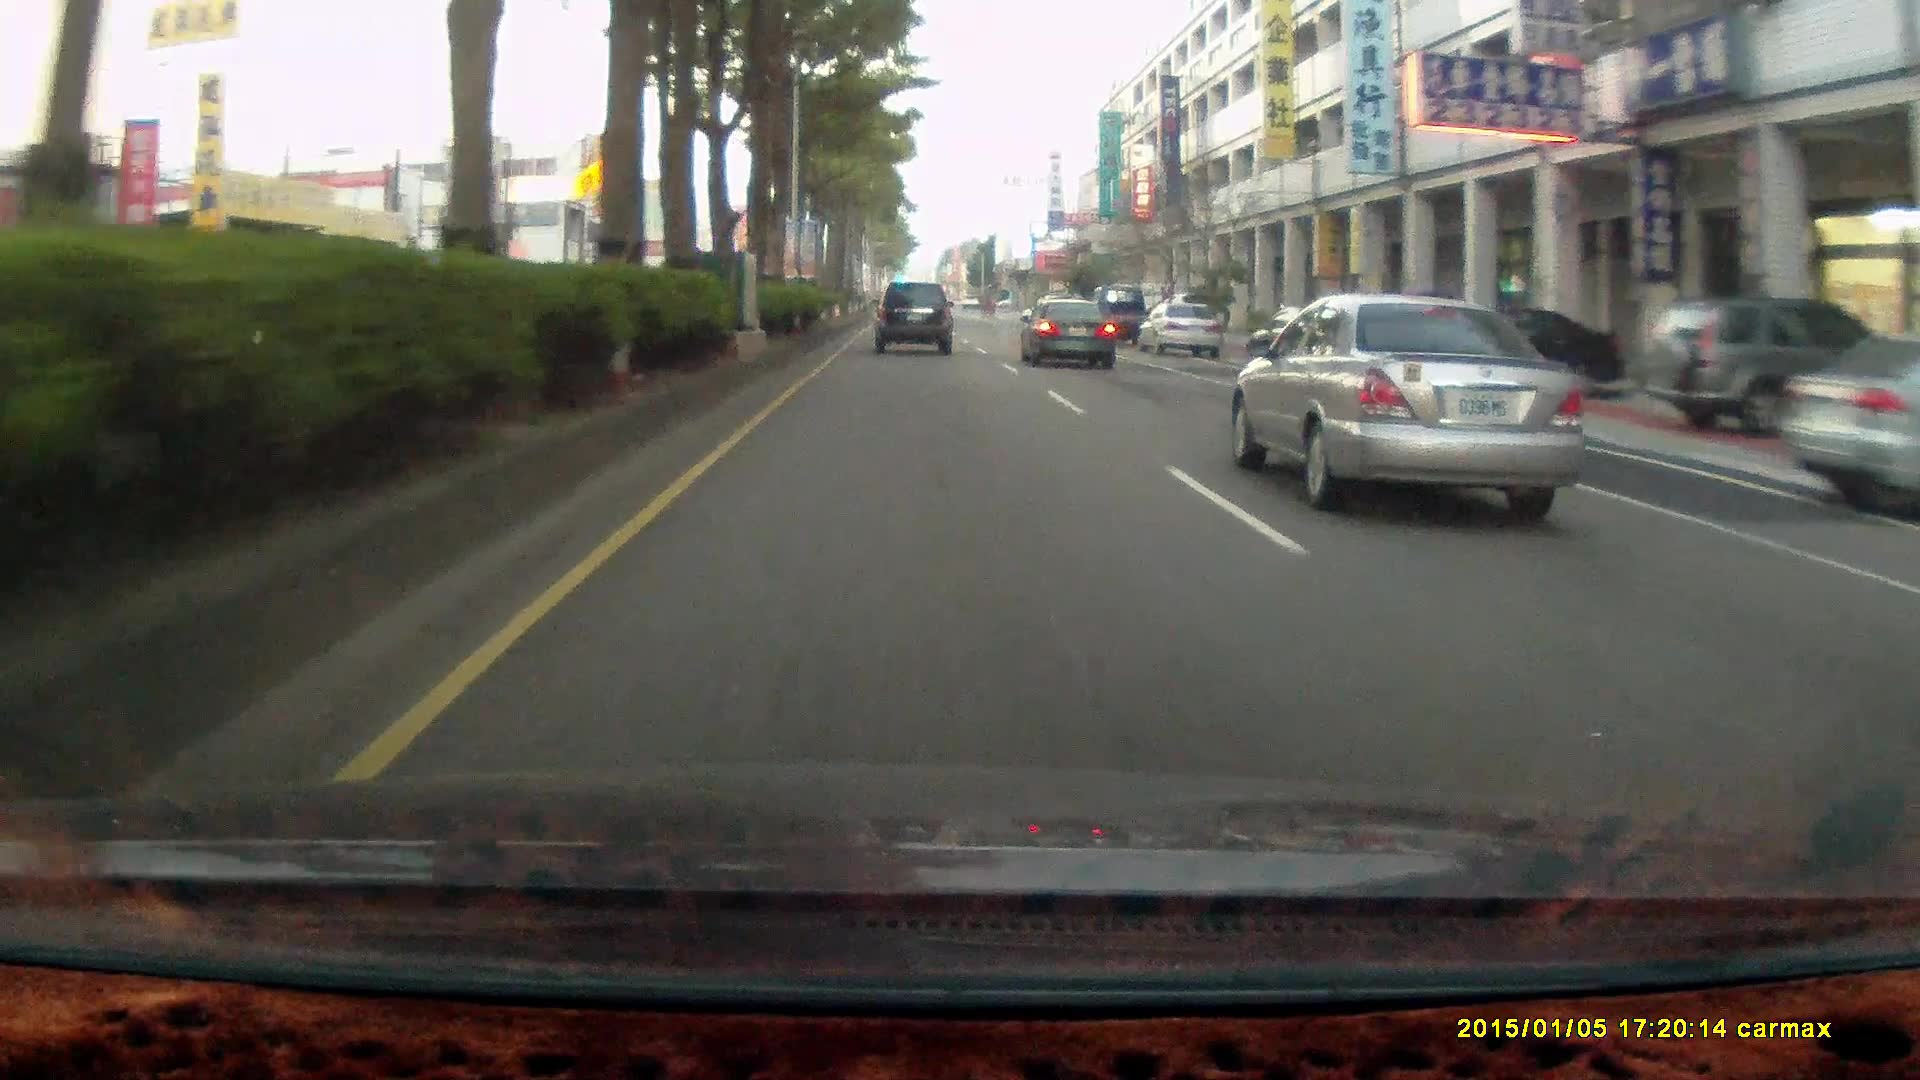vehicle: (1226, 293, 1597, 521), (1644, 298, 1894, 443), (1644, 298, 1883, 444), (1768, 331, 1920, 527), (1782, 331, 1920, 527), (1418, 309, 1625, 400), (1021, 299, 1121, 375), (1018, 295, 1116, 368), (873, 281, 957, 357), (872, 281, 953, 352), (1134, 305, 1224, 361), (1143, 307, 1228, 360), (1085, 284, 1146, 345)
